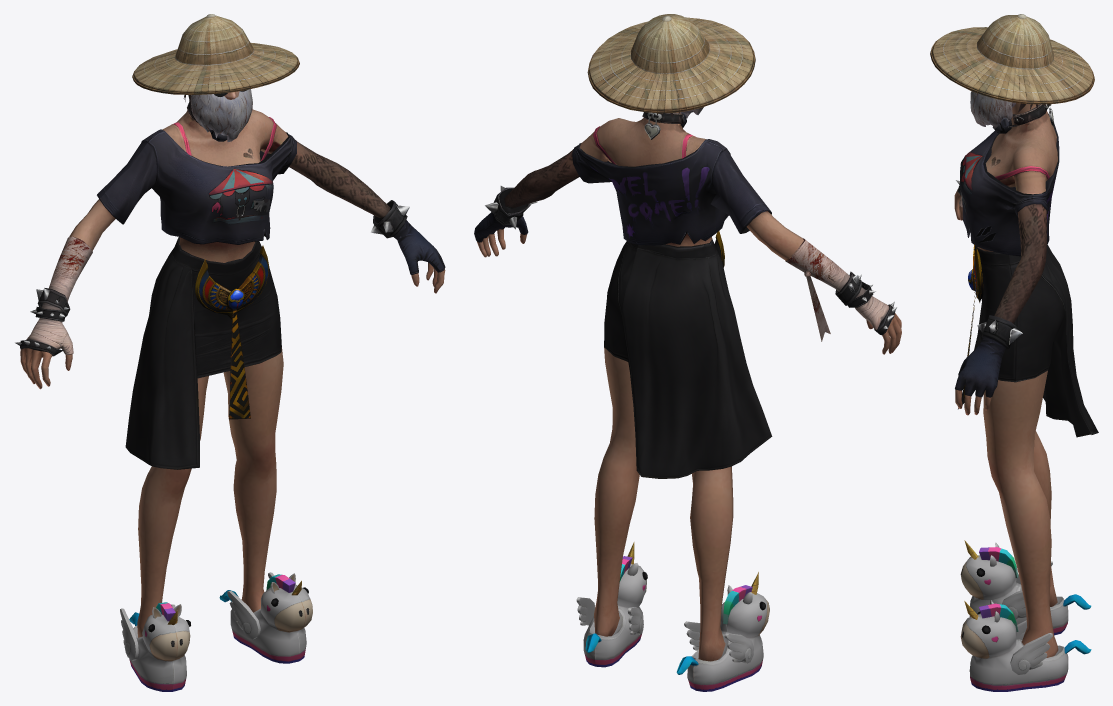
The model's file is femal methah bee.glb.
The picture shows the model from 3 angles, left to right: view 1: azimuth 30°, elevation 25°; view 2: azimuth 150°, elevation 25°; view 3: azimuth 270°, elevation 25°; orthographic projection.
Parts seen in each view (by area): view 1: femal methah bee; view 2: femal methah bee; view 3: femal methah bee.
Boxes of the visible parts, x1,y1,x2,y2 form: femal methah bee: (15, 14, 445, 691); femal methah bee: (474, 14, 901, 691); femal methah bee: (930, 14, 1098, 691).
Size of the model in its own units: 0.6044 by 0.8957 by 0.2138.
Materials: 10 (10 with a texture image).
